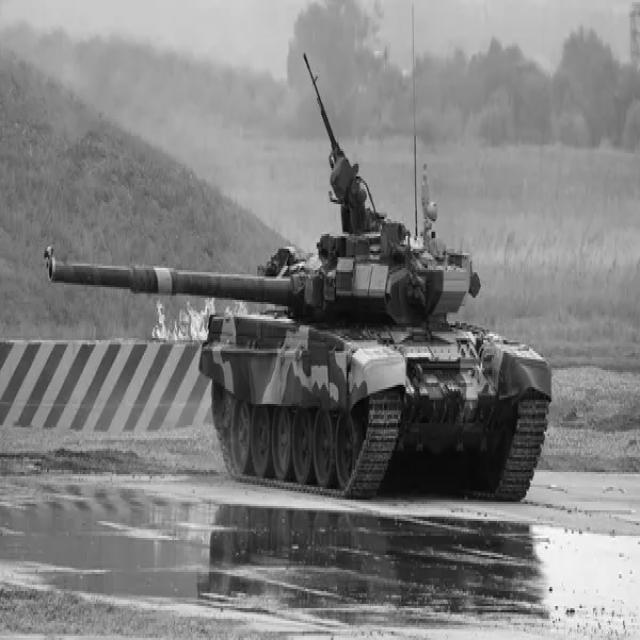Tank: (50, 111, 557, 503)
